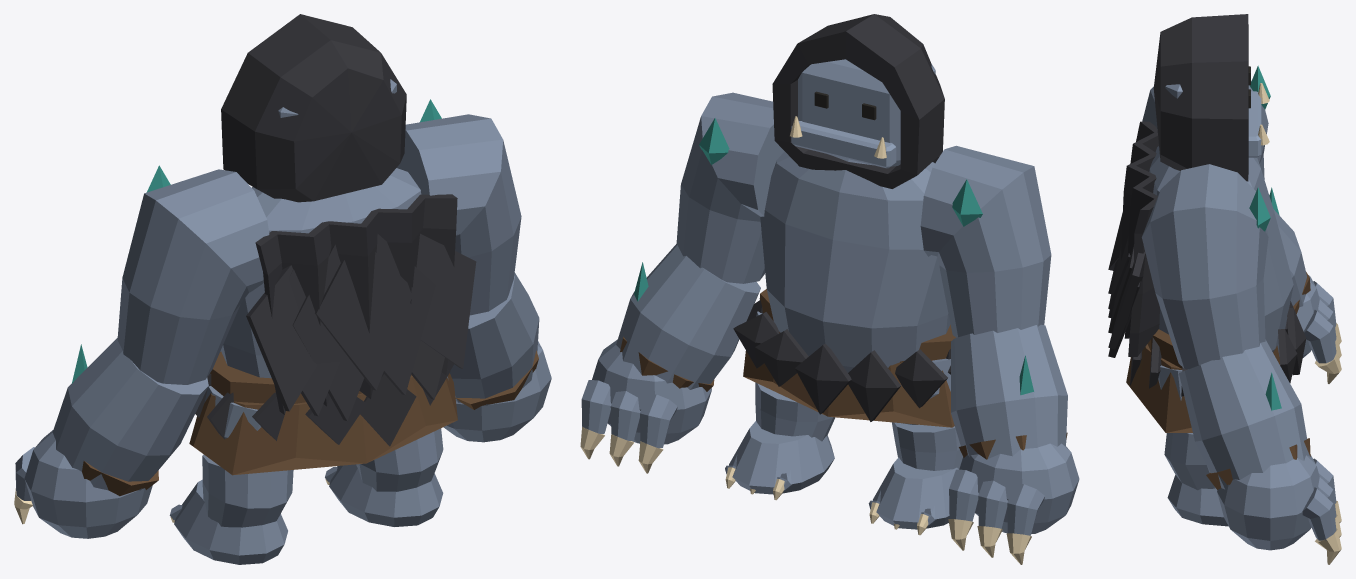
The model's file is host_08.glb.
3 views of the same model, side by side, from view 1: azimuth 30°, elevation 25°; view 2: azimuth 150°, elevation 25°; view 3: azimuth 270°, elevation 25° (orthographic). The views are drawn at different scales.
Parts seen in each view (by area): view 1: V6 source fitted domed cloth hood, V6 source anatomical upper arm L, V6 source anatomical upper arm R, V6 source anatomical forearm L, V6 shadowblood continuous folded fitted dark back hide, Leather ragged skirt, V6 source anatomical thorax, V6 source anatomical palm L, V6 source anatomical forearm R, V6 shadowblood actual overlapping ragged upper hide fold.003, V6 shadowblood actual overlapping ragged upper hide fold.006, V6 shadowblood actual overlapping ragged upper hide fold (+16 smaller); view 2: V6 source anatomical thorax, V6 source anatomical upper arm L, V6 source anatomical upper arm R, V6 source fitted domed cloth hood, V6 source anatomical forearm L, V6 source anatomical forearm R, Observed face, V6 source anatomical palm L, V6 source anatomical bare foot R, Leather ragged skirt, V6 source anatomical palm R, V6 source anatomical bare foot L (+18 smaller); view 3: V6 source anatomical upper arm R, V6 source fitted domed cloth hood, V6 source anatomical forearm R, V6 source anatomical palm R, V6 shadowblood continuous folded fitted dark back hide, V6 source anatomical thorax, Leather ragged skirt, V6 source anatomical shin R, V6 source anatomical bare foot R, V6 source anatomical forearm L, V6 source curled anatomical finger L.002, V6 source curled anatomical finger R.002 (+18 smaller).
Part boxes in pixels (x1,y1,x2,y2): V6 source fitted domed cloth hood: (221,14,406,202); V6 source anatomical upper arm L: (117,169,269,384); V6 source anatomical upper arm R: (396,114,521,315); V6 source anatomical forearm L: (52,338,208,490); V6 shadowblood continuous folded fitted dark back hide: (255,194,457,414); Leather ragged skirt: (189,373,457,475); V6 source anatomical thorax: (220,168,421,378); V6 source anatomical palm L: (24,430,152,538); V6 source anatomical forearm R: (450,272,539,405); V6 shadowblood actual overlapping ragged upper hide fold.003: (315,252,414,390); V6 shadowblood actual overlapping ragged upper hide fold.006: (416,233,476,368); V6 shadowblood actual overlapping ragged upper hide fold: (246,265,317,411); V6 source anatomical thorax: (760,151,950,372); V6 source anatomical upper arm L: (920,145,1051,337); V6 source anatomical upper arm R: (676,92,784,283); V6 source fitted domed cloth hood: (772,14,944,188); V6 source anatomical forearm L: (951,324,1067,458); V6 source anatomical forearm R: (616,244,760,389); Observed face: (798,59,935,166); V6 source anatomical palm L: (959,443,1079,533); V6 source anatomical bare foot R: (729,421,834,494); Leather ragged skirt: (743,332,954,427); V6 source anatomical palm R: (592,339,711,444); V6 source anatomical bare foot L: (873,457,958,529); V6 source anatomical upper arm R: (1141,164,1268,369); V6 source fitted domed cloth hood: (1153,14,1248,181); V6 source anatomical forearm R: (1179,339,1309,489); V6 source anatomical palm R: (1217,455,1319,550); V6 shadowblood continuous folded fitted dark back hide: (1121,121,1159,356); V6 source anatomical thorax: (1149,146,1293,352); Leather ragged skirt: (1126,344,1280,432); V6 source anatomical shin R: (1164,433,1215,490); V6 source anatomical bare foot R: (1167,475,1228,526); V6 source anatomical forearm L: (1273,209,1306,307); V6 source curled anatomical finger L.002: (1303,310,1336,363); V6 source curled anatomical finger R.002: (1302,487,1336,540).
Size of the model in its own units: 1.92 by 1.79 by 0.8233.
